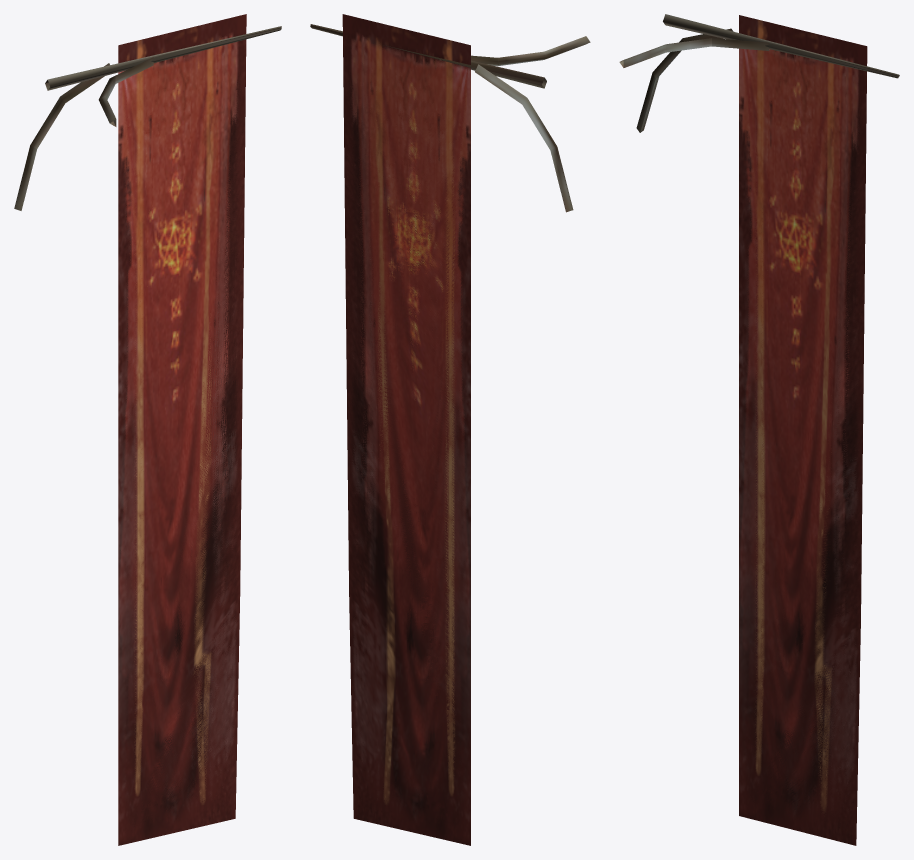
Rendered from C_qizhi.fbx.
The picture shows the model from 3 angles, left to right: view 1: azimuth 30°, elevation 25°; view 2: azimuth 150°, elevation 25°; view 3: azimuth 330°, elevation 25°; orthographic projection.
Visible parts, largest first — view 1: Jianzu_cq07; view 2: Jianzu_cq07; view 3: Jianzu_cq07.
Boxes of the visible parts, x1,y1,x2,y2 form: Jianzu_cq07: (14,14,281,845); Jianzu_cq07: (310,14,590,845); Jianzu_cq07: (619,14,899,845).
Size of the model in its own units: 12.74 by 36.82 by 4.94.
